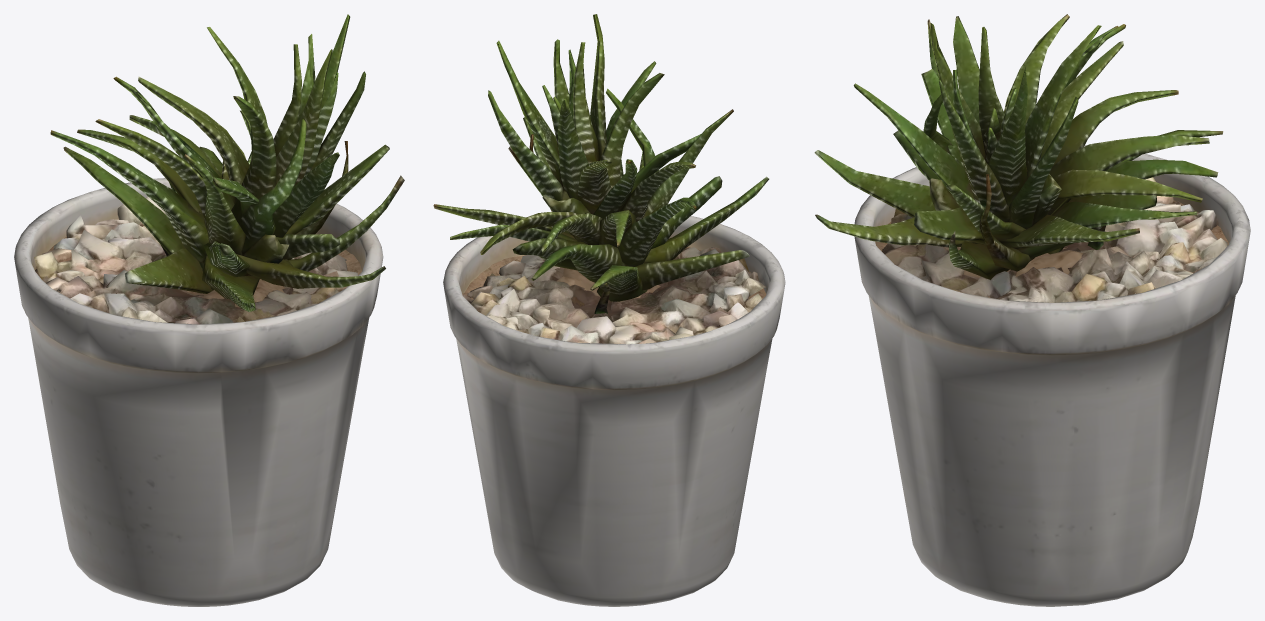
Rendered from plant-small-succulent.glb.
3 views of the same model, side by side, from view 1: azimuth 30°, elevation 25°; view 2: azimuth 150°, elevation 25°; view 3: azimuth 270°, elevation 25° (orthographic). The views are drawn at different scales.
Visible parts, largest first — view 1: potted_plant_04_pot, potted_plant_04_plant, potted_plant_04_ground, potted_plant_04_dirt; view 2: potted_plant_04_pot, potted_plant_04_plant, potted_plant_04_ground, potted_plant_04_dirt; view 3: potted_plant_04_pot, potted_plant_04_plant, potted_plant_04_ground, potted_plant_04_dirt.
Boxes of the visible parts, x1=… form: potted_plant_04_pot: x1=14, y1=178, x2=383, y2=606; potted_plant_04_plant: x1=50, y1=14, x2=404, y2=311; potted_plant_04_ground: x1=34, y1=196, x2=357, y2=324; potted_plant_04_dirt: x1=35, y1=236, x2=361, y2=307; potted_plant_04_pot: x1=443, y1=216, x2=785, y2=606; potted_plant_04_plant: x1=433, y1=14, x2=769, y2=313; potted_plant_04_ground: x1=463, y1=247, x2=766, y2=344; potted_plant_04_dirt: x1=462, y1=247, x2=766, y2=306; potted_plant_04_pot: x1=854, y1=145, x2=1250, y2=606; potted_plant_04_plant: x1=814, y1=14, x2=1223, y2=279; potted_plant_04_ground: x1=882, y1=177, x2=1227, y2=302; potted_plant_04_dirt: x1=875, y1=200, x2=1228, y2=297.
Bounding box in the file's own units: 0.1677 × 0.2671 × 0.1845.
1 material, 1 textured.
